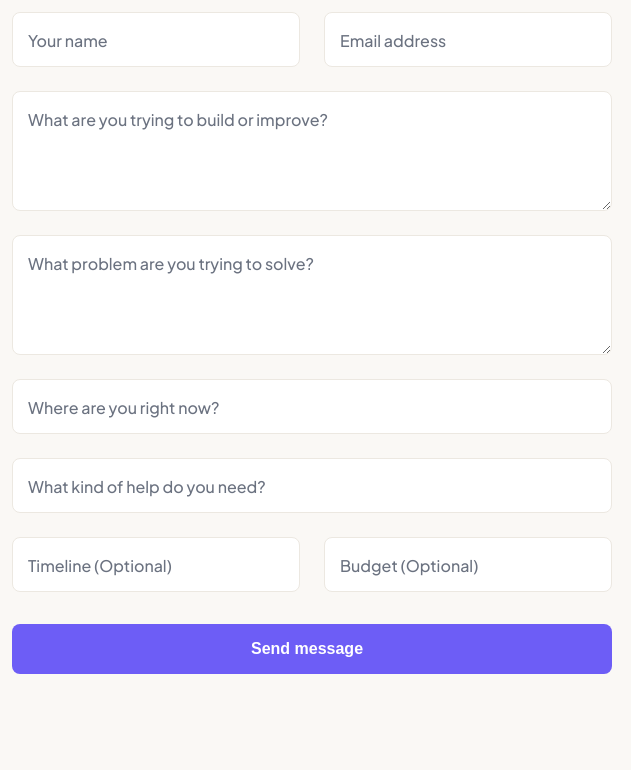
Test: ContactForm › shows error state when submission fails
Type "Jane Doe" into the field labelled "Your name" at (156, 40), box [12, 12, 300, 67]
Type "jane@example.com" into the field labelled "Email address" at (468, 40), box [324, 12, 612, 67]
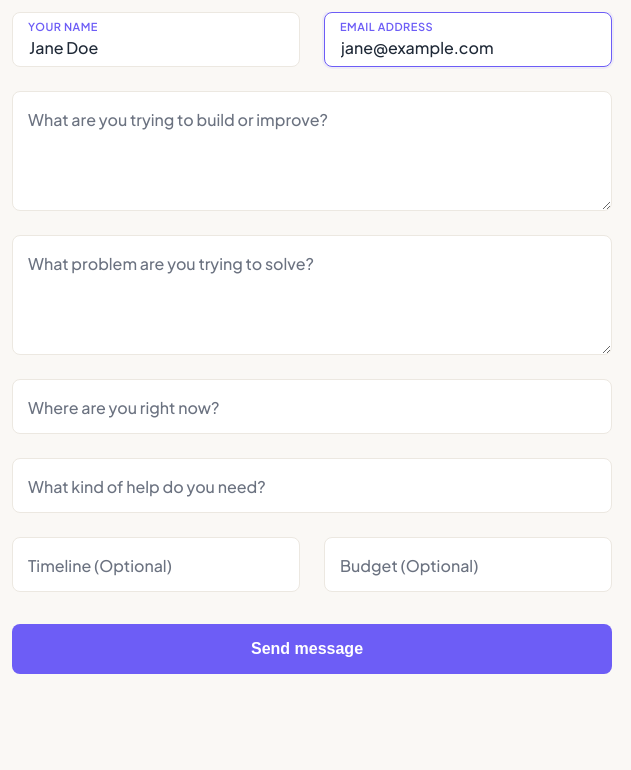
Type "Building a new dashboard" into the text box labelled "What are you trying to build or improve?" at (312, 151), box [12, 91, 612, 211]
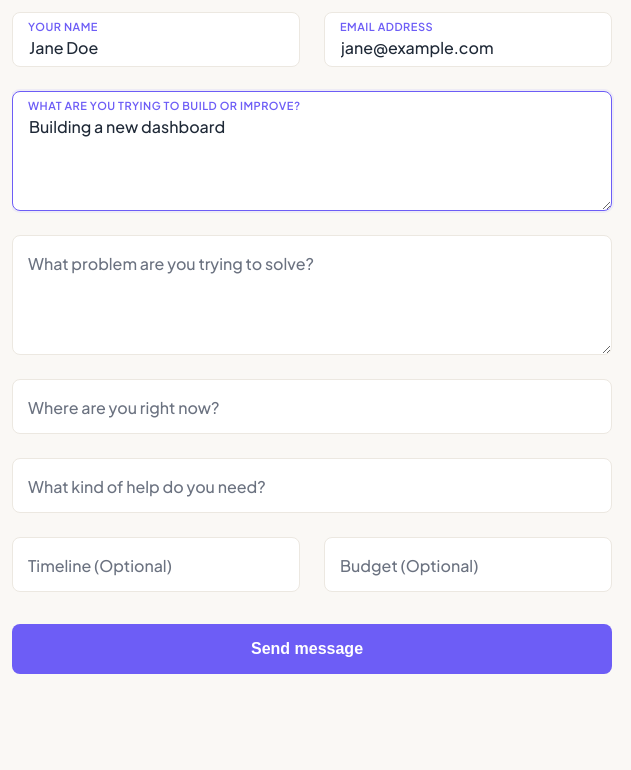
Type "Data is hard to understand" into the text box labelled "What problem are you trying to solve?" at (312, 295), box [12, 235, 612, 355]
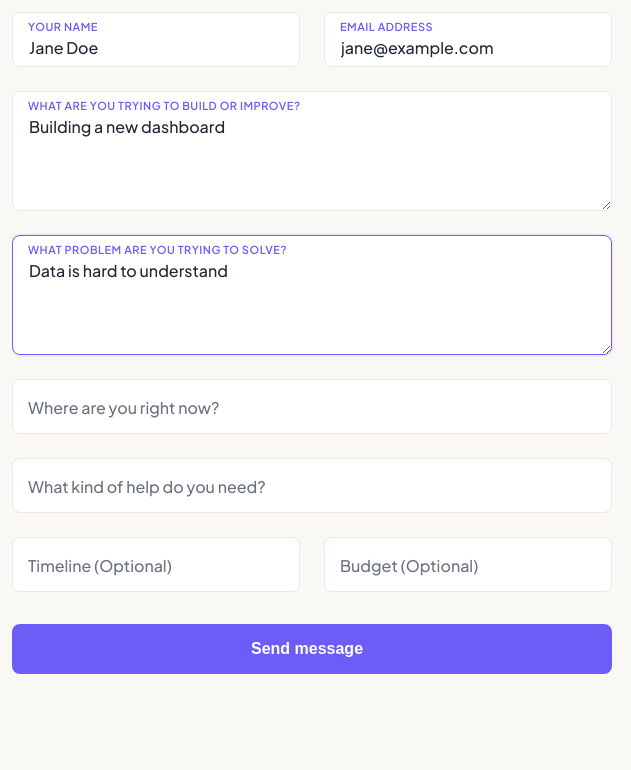
Select "Exploring an idea" in the dropdown labelled "Where are you right now?" at (312, 406), box [12, 379, 612, 434]
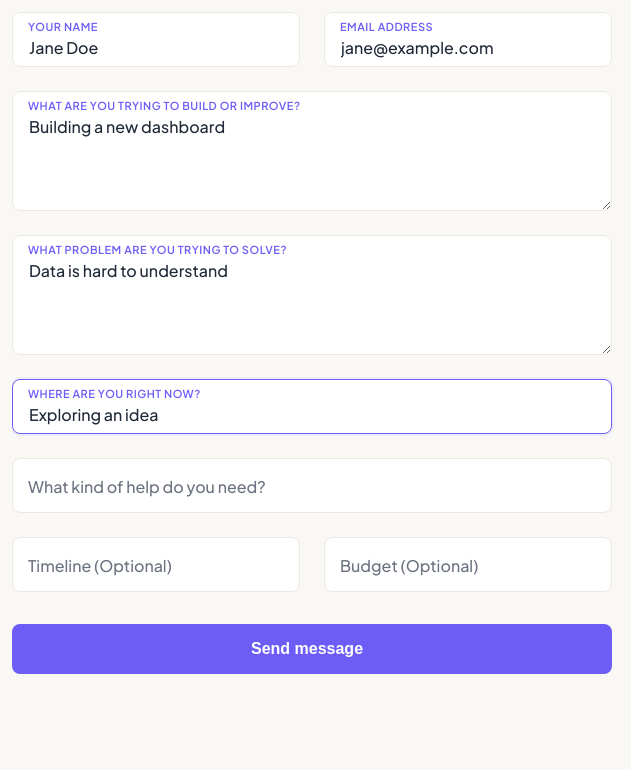
Select "Product strategy" in the dropdown labelled "What kind of help do you need?" at (312, 486), box [12, 458, 612, 513]
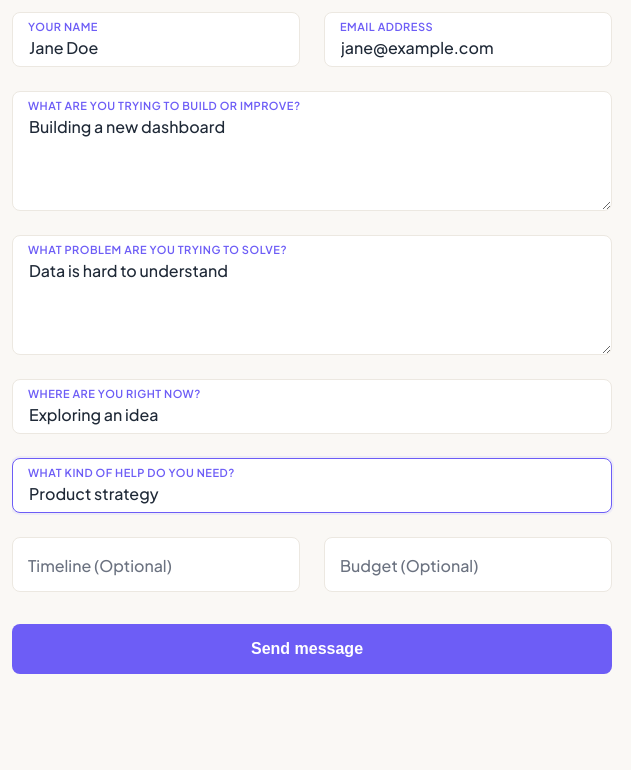
Click the button "Send message" at (312, 649), box [12, 624, 612, 674]
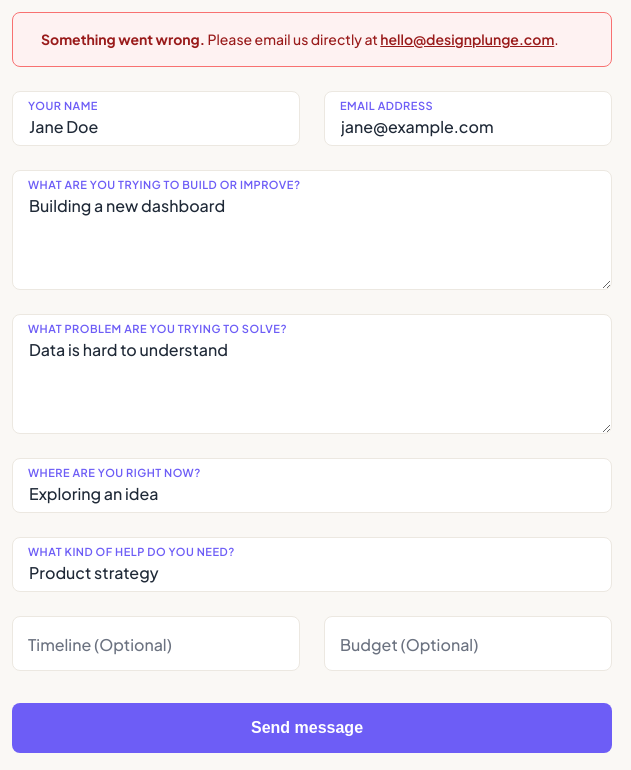
Result: the text "Something went wrong." is shown at [41, 30, 205, 48]
